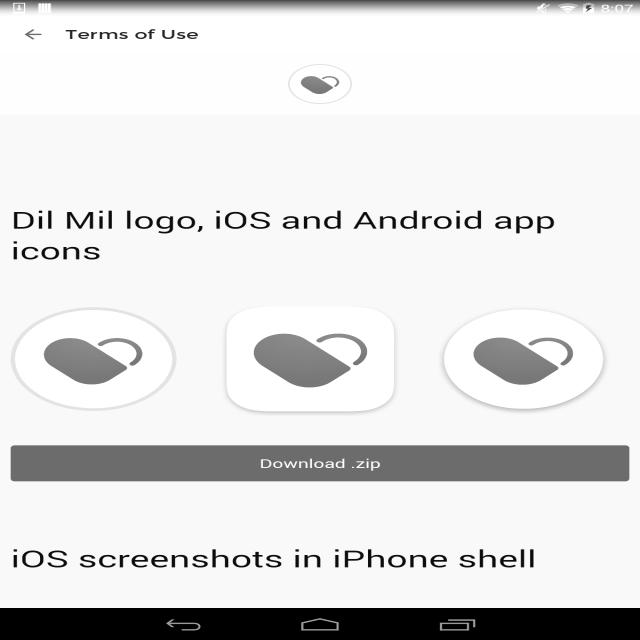Button: (5, 443, 636, 483)
ImageButton: (14, 23, 45, 42)
ImageView: (226, 308, 399, 418), (438, 306, 608, 414), (16, 313, 174, 402), (286, 62, 352, 106)
TextView: (9, 209, 556, 265), (11, 544, 544, 570), (59, 26, 210, 45)
